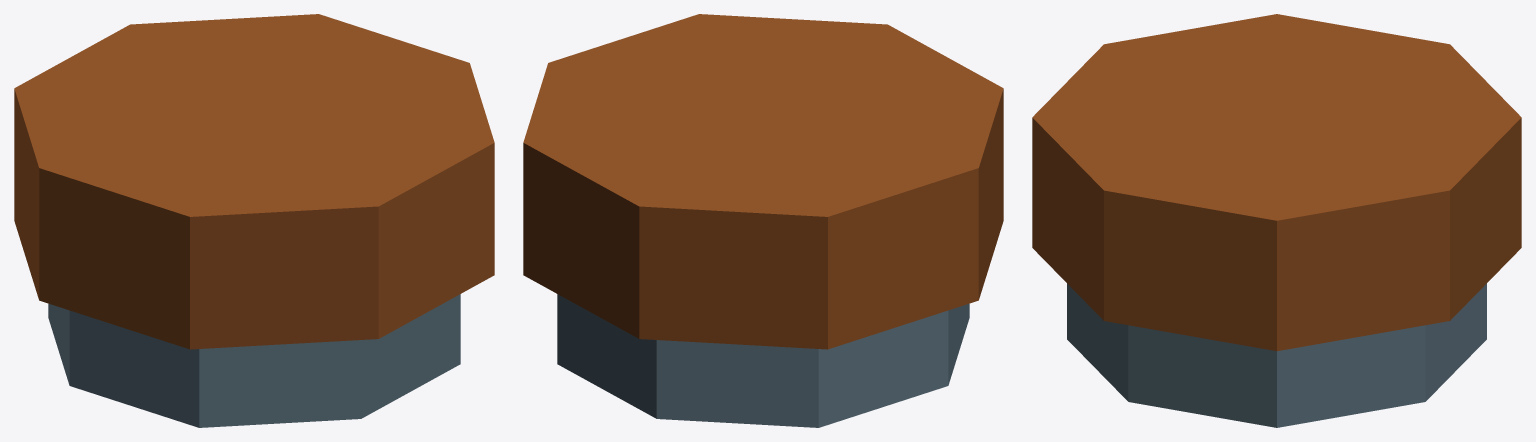
File: D31_Pier_Post_Cap.fbx
The picture shows the model from 3 angles, left to right: view 1: azimuth 30°, elevation 25°; view 2: azimuth 150°, elevation 25°; view 3: azimuth 270°, elevation 25°; orthographic projection.
Visible parts, largest first — view 1: D31_Pier_Post_Cap; view 2: D31_Pier_Post_Cap; view 3: D31_Pier_Post_Cap.
Boxes of the visible parts, x1=… form: D31_Pier_Post_Cap: x1=14, y1=14, x2=494, y2=427; D31_Pier_Post_Cap: x1=523, y1=14, x2=1003, y2=427; D31_Pier_Post_Cap: x1=1032, y1=14, x2=1521, y2=427.
Size of the model in its own units: 0.34 by 0.17 by 0.34.
Materials: 2 (2 with a texture image).
